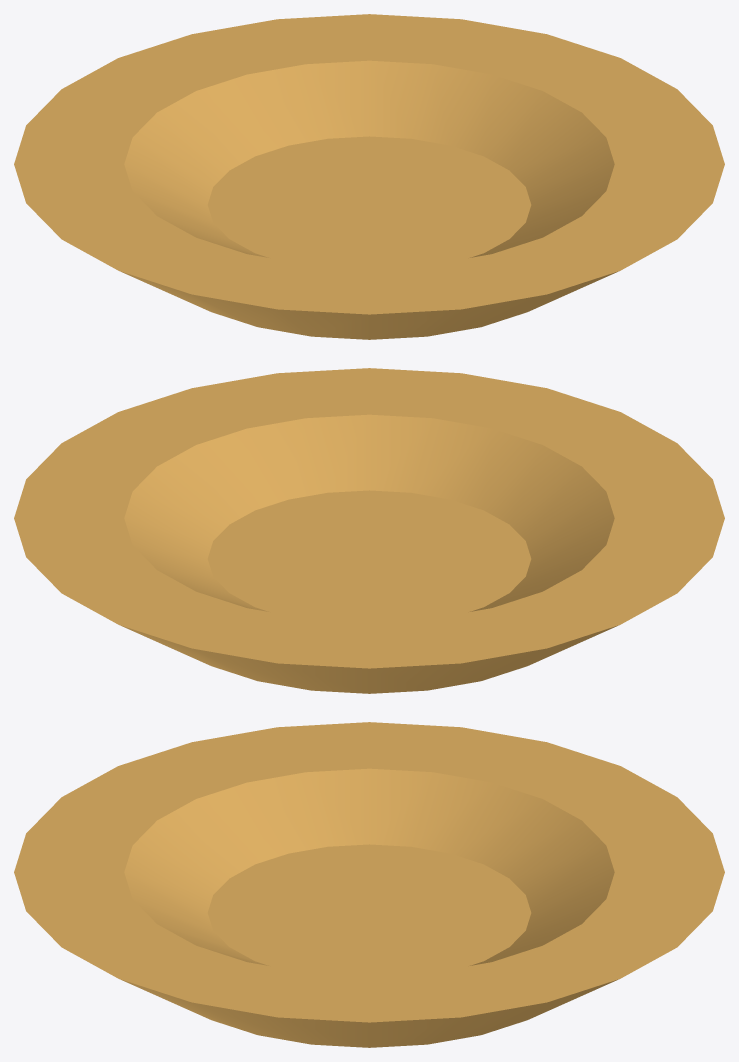
The model's file is detailPlate.fbx.
3 views of the same model, one above another, from view 1: azimuth 30°, elevation 25°; view 2: azimuth 150°, elevation 25°; view 3: azimuth 270°, elevation 25° (orthographic).
Parts seen in each view (by area): view 1: detailPlate; view 2: detailPlate; view 3: detailPlate.
Part boxes in pixels (x1=…): detailPlate: x1=14, y1=14, x2=724, y2=339; detailPlate: x1=14, y1=368, x2=724, y2=693; detailPlate: x1=14, y1=722, x2=724, y2=1047.
Size of the model in its own units: 2.54 by 0.3189 by 2.54.
